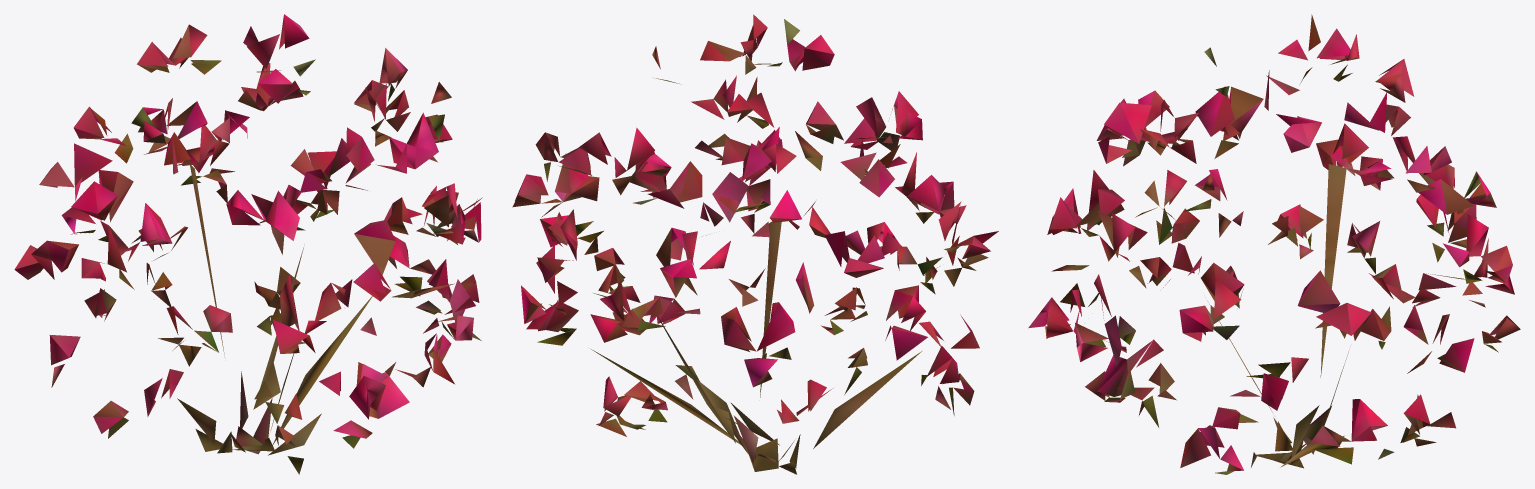
Rendered from arbusto_flor_lod2.glb.
The picture shows the model from 3 angles, left to right: view 1: azimuth 30°, elevation 25°; view 2: azimuth 150°, elevation 25°; view 3: azimuth 270°, elevation 25°; orthographic projection. The views are drawn at different scales.
Parts seen in each view (by area): view 1: arbusto_flor; view 2: arbusto_flor; view 3: arbusto_flor.
Boxes of the visible parts, x1,y1,x2,y2 form: arbusto_flor: [14, 14, 482, 474]; arbusto_flor: [512, 14, 998, 474]; arbusto_flor: [1028, 14, 1520, 474].
Bounding box in the file's own units: 1.19 × 1.11 × 1.16.
Materials: 1 (1 with a texture image).
